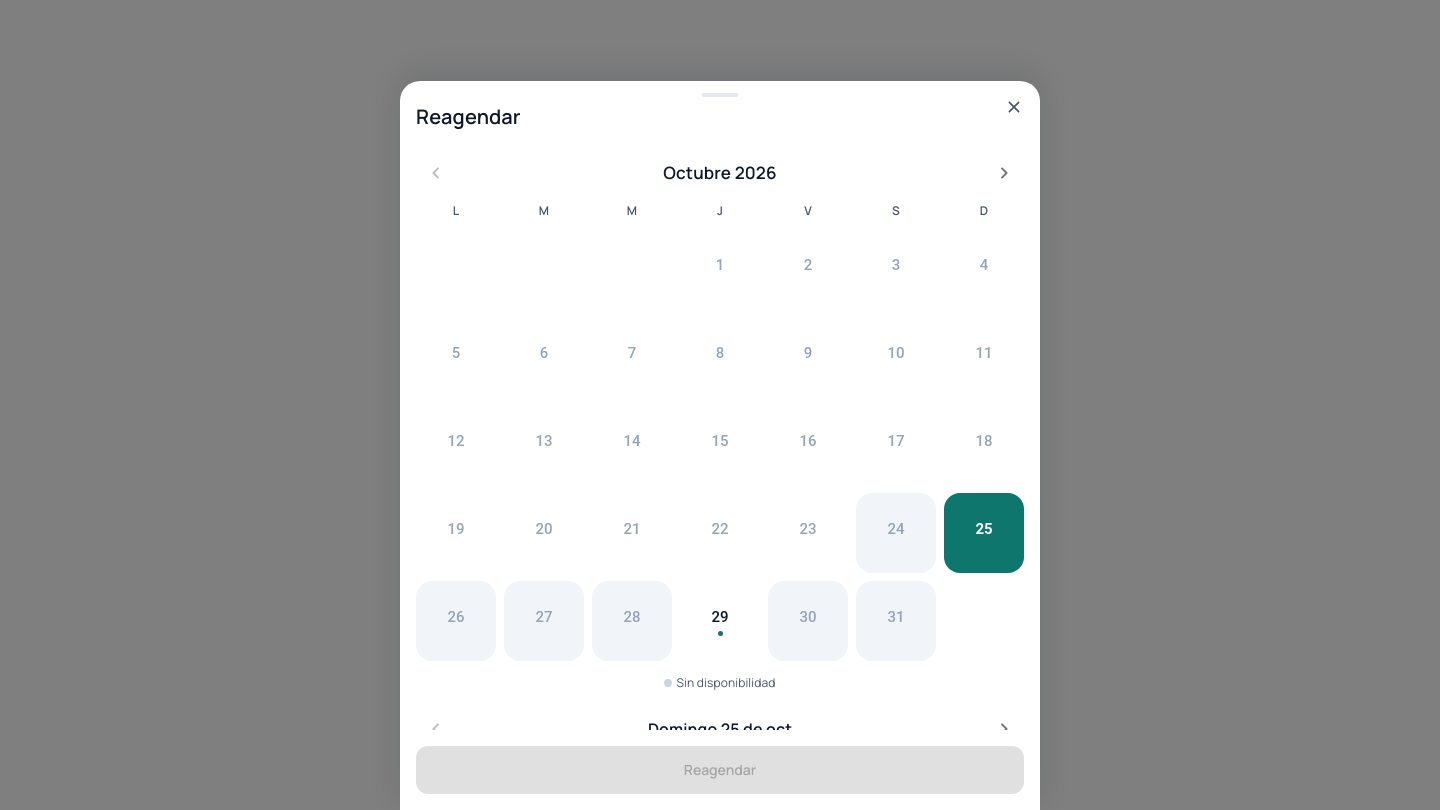
Test: RescheduleSheet — the day pager › the calendar is on screen from the start, and a tap jumps the pager
The width and height of the screenshot is (1440, 810).
// No toggle to find: the month grid IS the first thing after the current departure.
Click the button "29".
click(720, 621)  # box [680, 581, 760, 661]
(page scrolled)
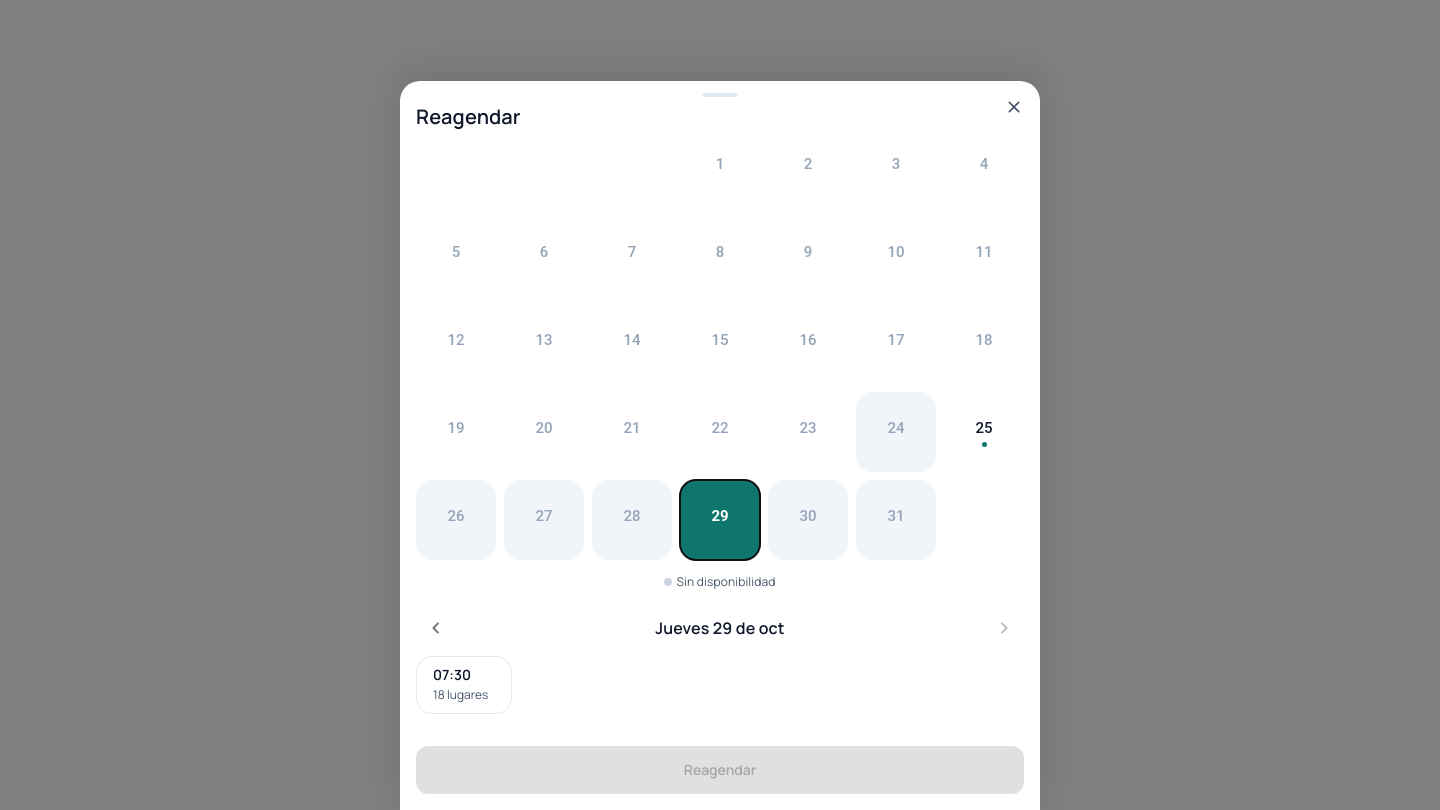
Check: the button "07:30 18 lugares" is shown, box [416, 656, 512, 714]
